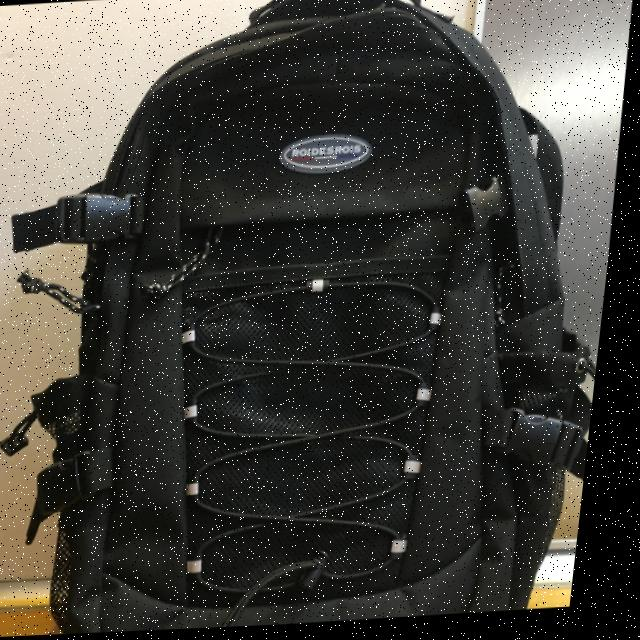backpack: (1, 0, 640, 638)
